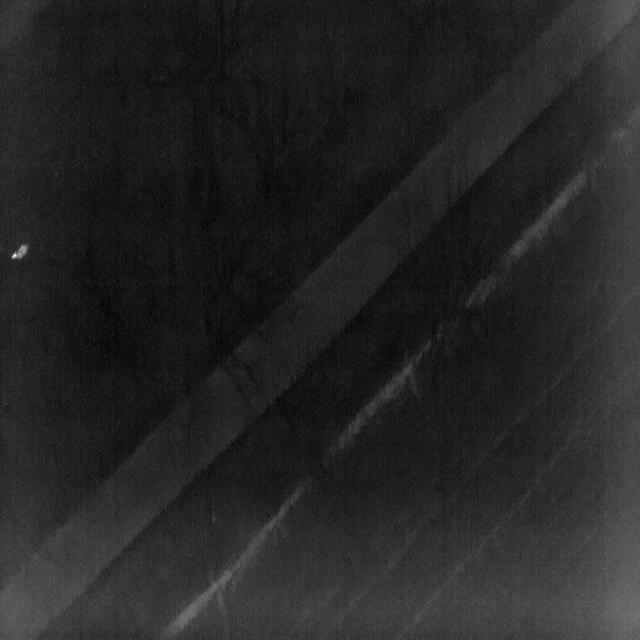deer: (11, 243, 28, 260)
